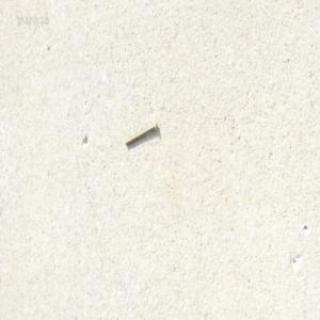Bolttrack_idkeyframe: (124, 120, 156, 146)
